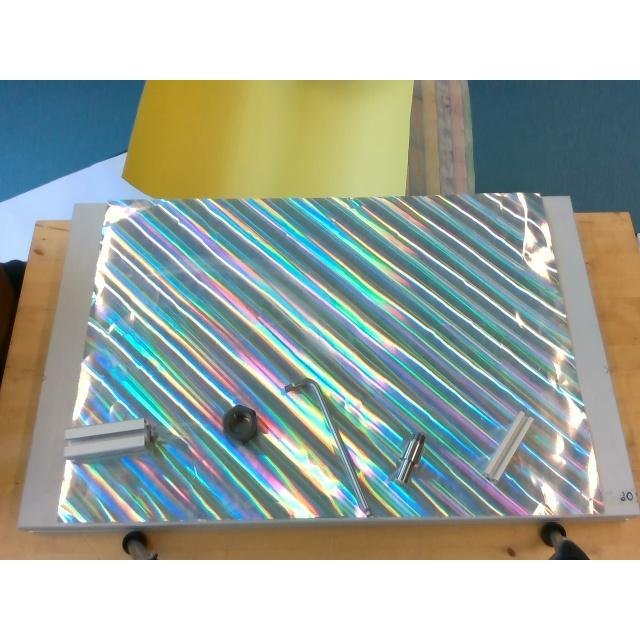AllenKey: (283, 378, 371, 516)
Axis2: (392, 433, 424, 485)
F20_20_G: (483, 411, 532, 481)
M20: (222, 404, 258, 444)
S40_40_G: (64, 418, 152, 458)
